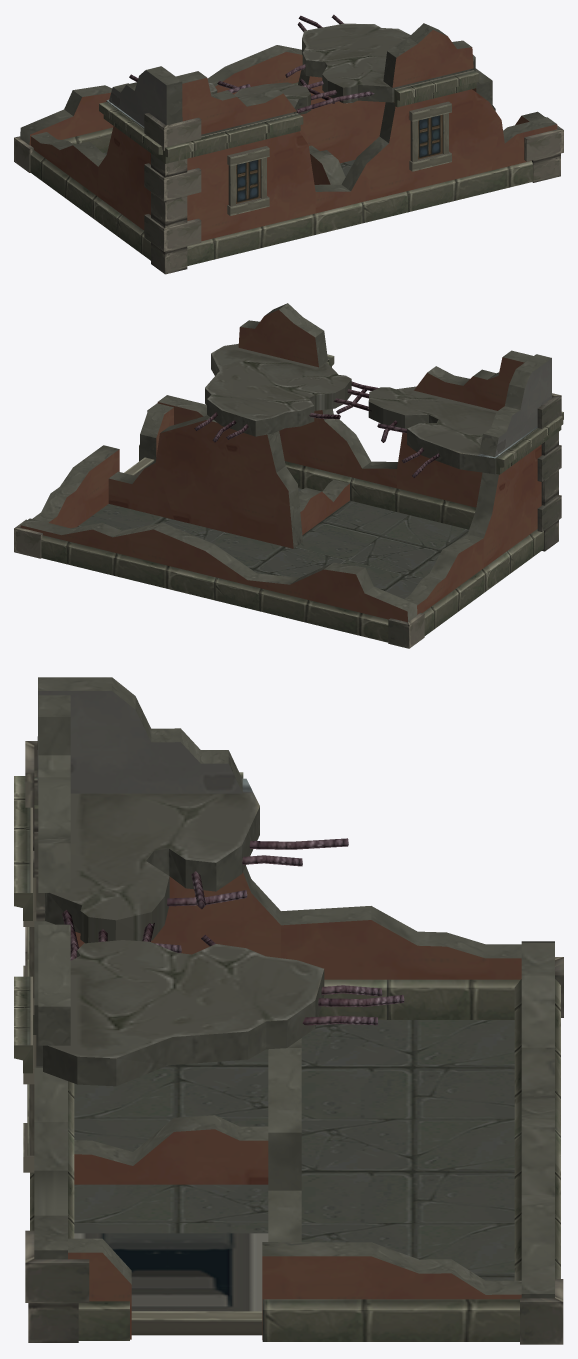
File: break_house_16.fbx
3 views of the same model, one above another, from view 1: azimuth 30°, elevation 25°; view 2: azimuth 150°, elevation 25°; view 3: azimuth 270°, elevation 25° (orthographic). The views are drawn at different scales.
Visible parts, largest first — view 1: break_house_16; view 2: break_house_16; view 3: break_house_16.
Part boxes in pixels (x1,y1,x2,y2): break_house_16: (14,14,563,274); break_house_16: (14,303,563,648); break_house_16: (14,677,563,1344).
Size of the model in its own units: 1189 by 523 by 790.
Materials: 1 (1 with a texture image).
